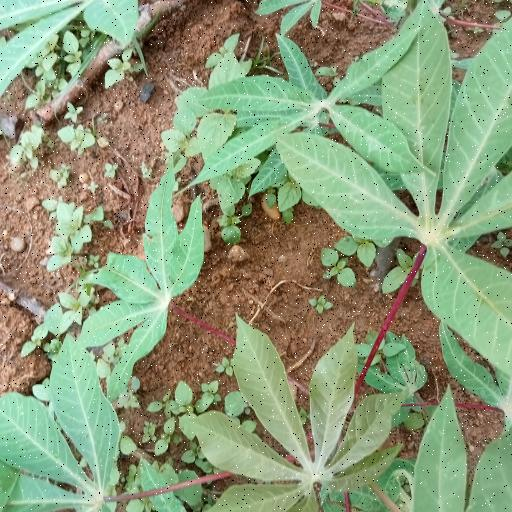Cassava_Mosaic: (299, 30, 512, 346), (206, 320, 396, 512)
